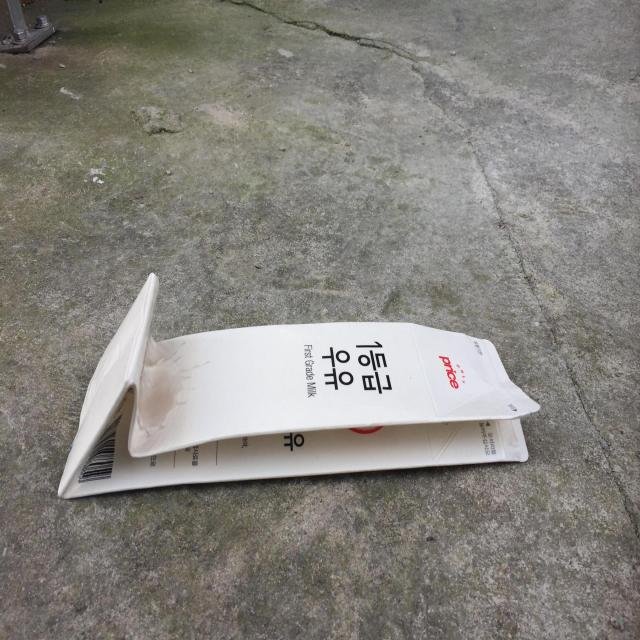paperpack: (57, 273, 540, 499)
